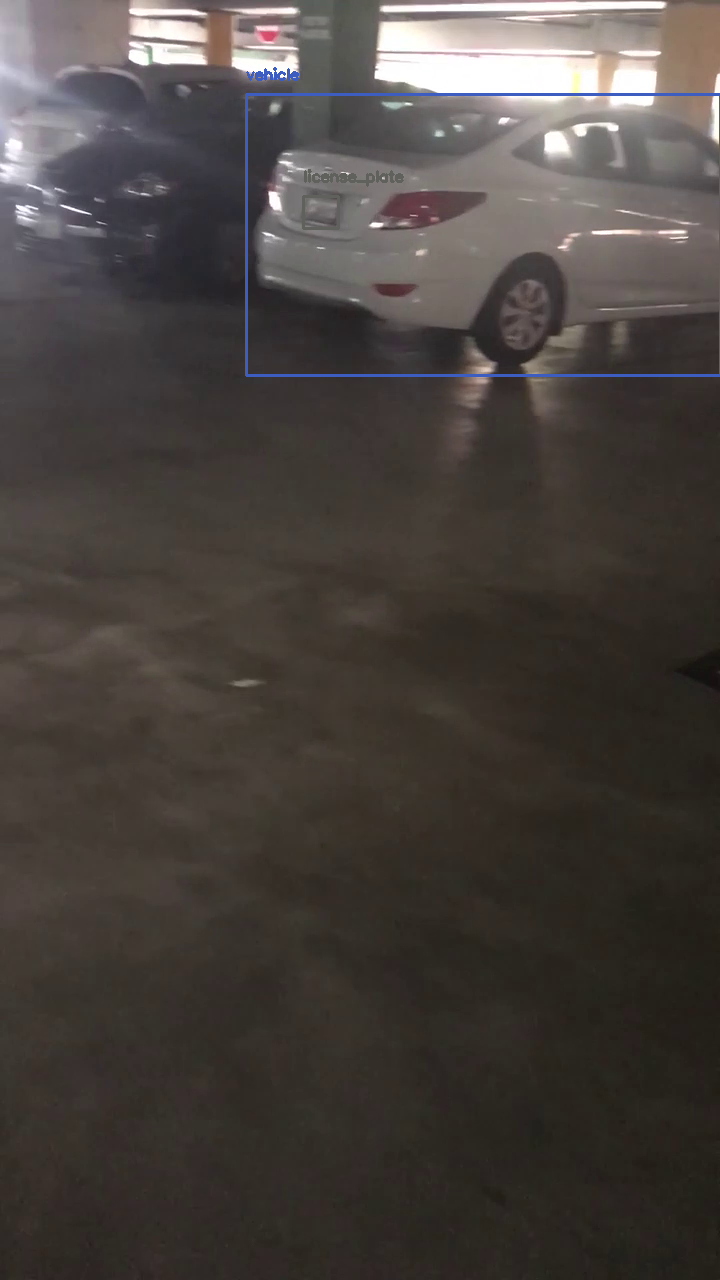license_plate: (303, 196, 338, 228)
vehicle: (246, 94, 720, 375)
